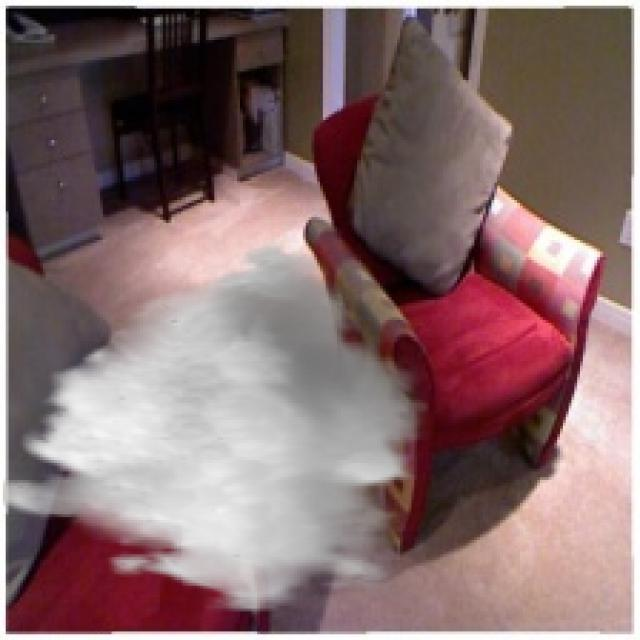Smoke: (2, 237, 428, 612)
